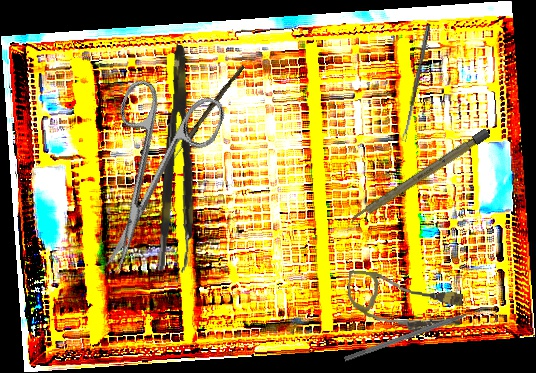Cannula: (344, 270, 465, 335)
Hook Surgical: (343, 304, 489, 363)
Iris Scissors: (63, 68, 229, 286)
Scalpel Handle: (347, 128, 491, 226)
Surgical Spoon: (159, 62, 246, 177), (401, 23, 431, 142)
Tissue Forceps: (157, 44, 205, 274)
